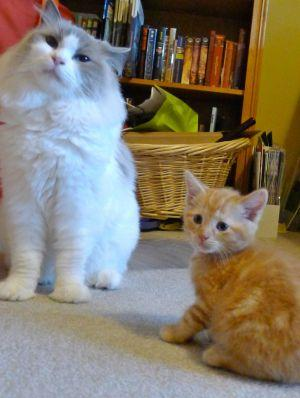ragdoll: (7, 1, 131, 115)
